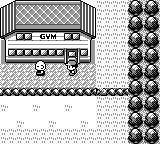main: (66, 61, 78, 75)
no-caminable: (1, 1, 95, 63), (128, 0, 159, 143)
npc: (34, 61, 46, 75)
puerta: (66, 50, 78, 64)
salto: (0, 89, 128, 95)
